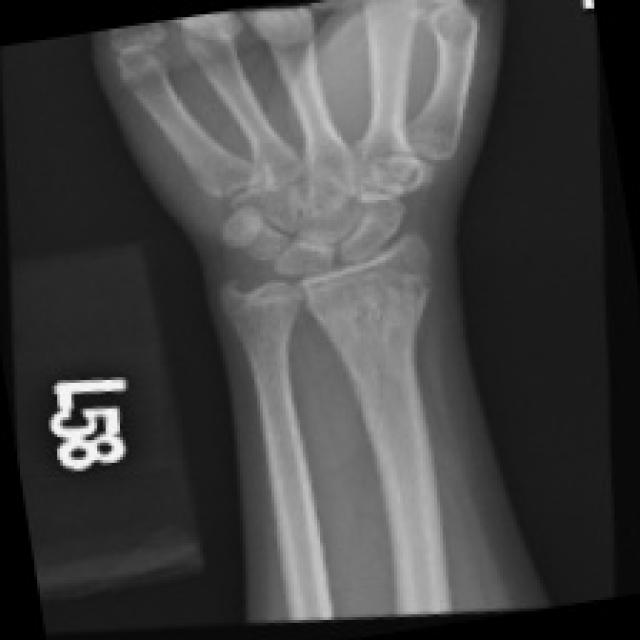fracture: (194, 216, 294, 348)
